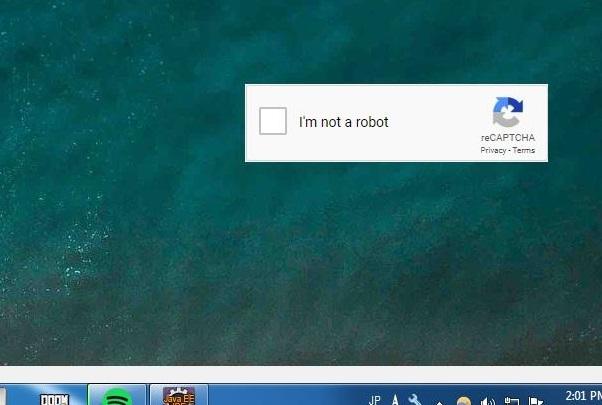captcha: (259, 107, 390, 135)
